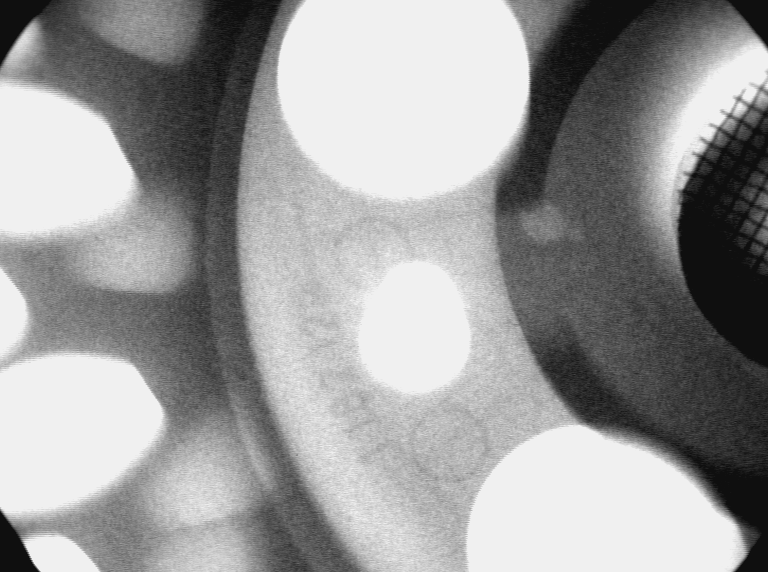defect: (520, 203, 589, 246)
